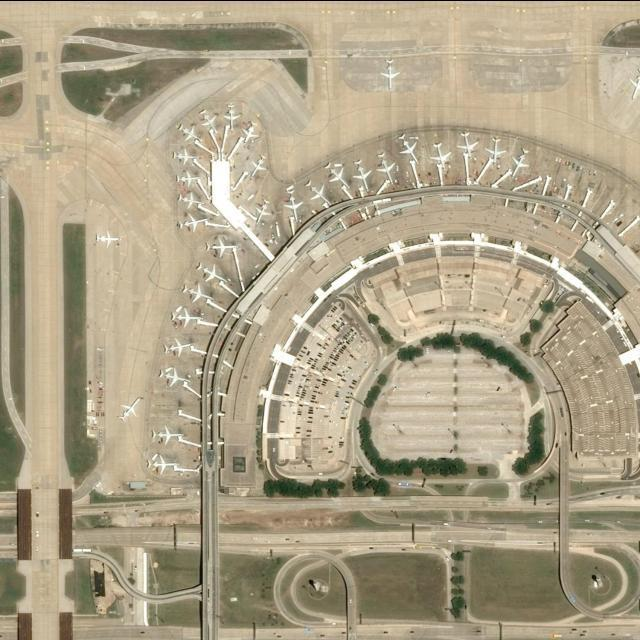Aircraft: (324, 160, 352, 190), (375, 150, 397, 185), (397, 133, 421, 163), (510, 146, 532, 178), (353, 157, 372, 193), (207, 234, 238, 256), (183, 280, 211, 304), (455, 129, 477, 159), (431, 139, 451, 172), (117, 396, 141, 422), (197, 260, 224, 283), (485, 133, 505, 164), (283, 188, 303, 219), (305, 179, 329, 203), (163, 337, 193, 356), (380, 59, 400, 87), (158, 366, 186, 386), (153, 424, 181, 444), (177, 212, 207, 230), (199, 107, 218, 135), (171, 307, 200, 325), (178, 190, 205, 209), (147, 453, 173, 472), (94, 227, 120, 246), (253, 197, 271, 224), (175, 169, 202, 187), (177, 121, 200, 141), (242, 122, 262, 144), (248, 152, 265, 177), (627, 68, 640, 100), (173, 149, 199, 165), (223, 103, 240, 127)
